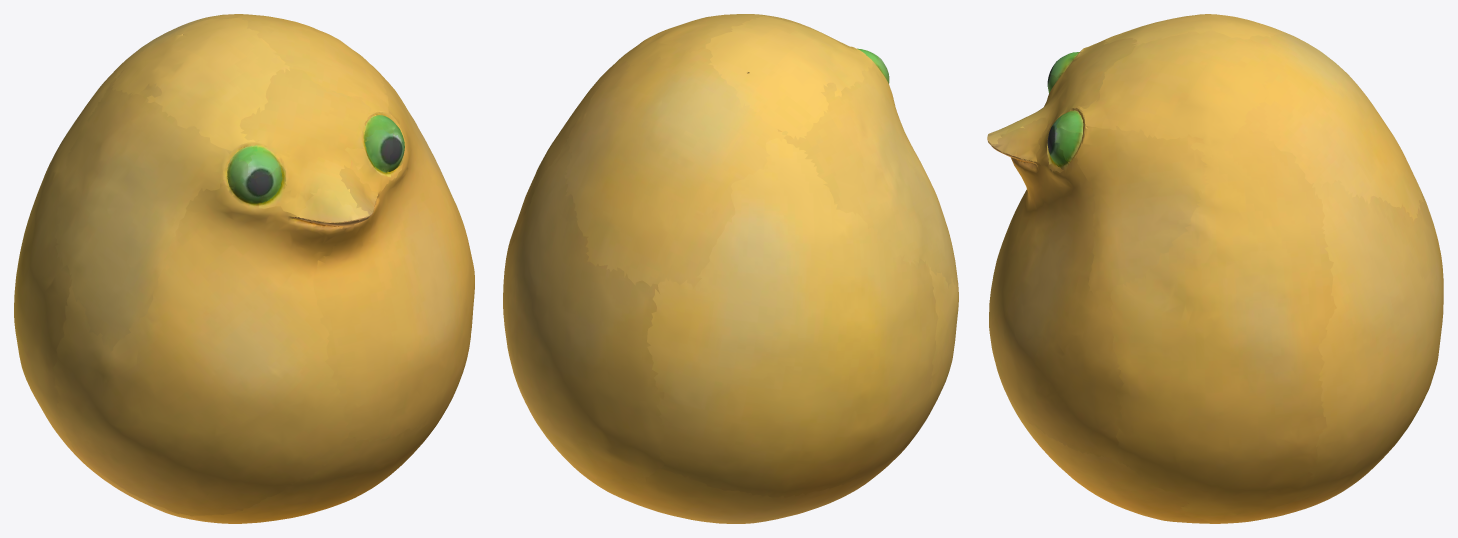
File: naiwa_naidan_runtime.glb
3 renders of one model, left to right at view 1: azimuth 30°, elevation 25°; view 2: azimuth 150°, elevation 25°; view 3: azimuth 270°, elevation 25°, orthographic.
Visible parts, largest first — view 1: geometry_0; view 2: geometry_0; view 3: geometry_0.
Boxes of the visible parts, x1=… form: geometry_0: x1=14, y1=14, x2=474, y2=523; geometry_0: x1=503, y1=14, x2=958, y2=523; geometry_0: x1=987, y1=14, x2=1443, y2=523.
Bounding box in the file's own units: 0.1378 × 0.15 × 0.1377.
1 material, 1 textured.
